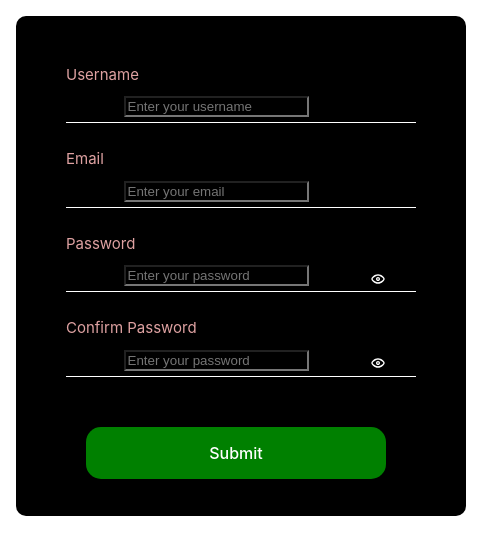
it: Form Component › должен успешно отправляться при валидных данных
Type "JohnDoe" into the field with placeholder "Enter your username" at (216, 106), box [124,96,308,117]
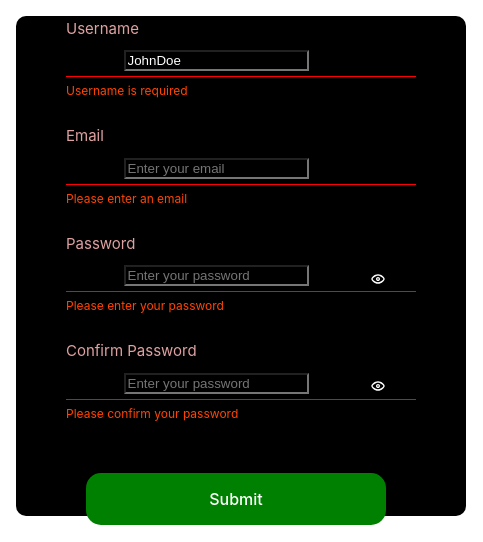
Type "john@example.com" into the field with placeholder "Enter your email" at (216, 168), box [124,158,308,178]
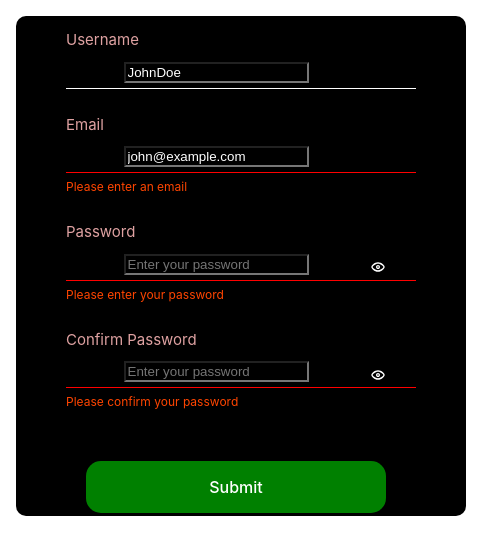
Type "password123" into the 1st password field with placeholder "Enter your password" at (216, 264), box [124,254,308,274]
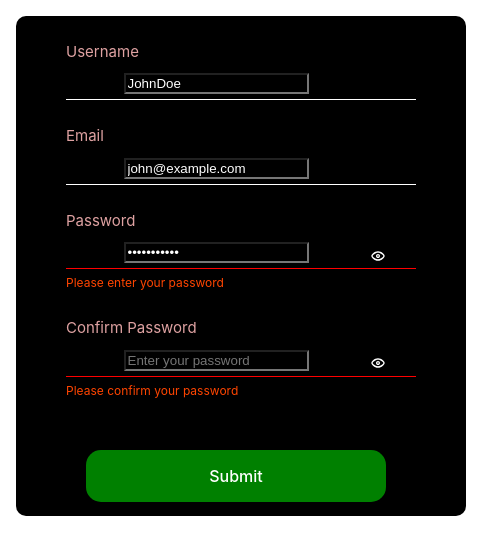
Type "password123" into the password field with placeholder "Enter your password" at (216, 360), box [124,350,308,370]
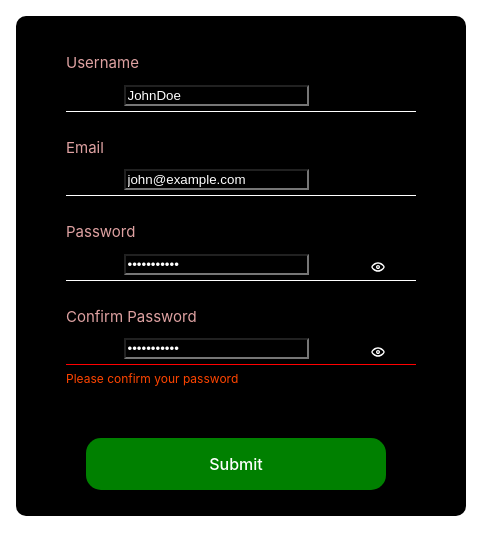
Click the button "Submit" at (236, 464), box [86,438,386,490]
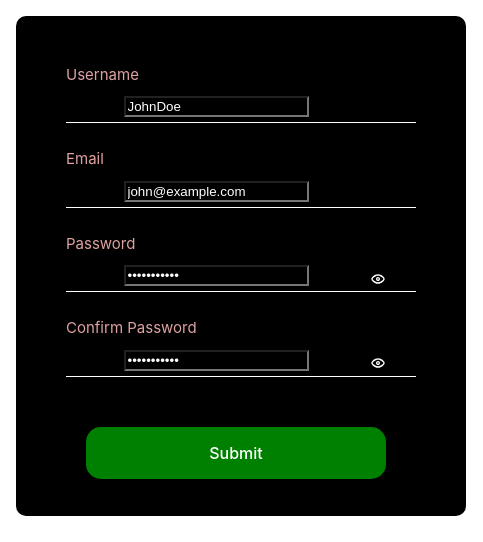
Expected: the text "Username is required" is not shown
Expected: the button "Submit" is disabled, [86,426,386,478]
